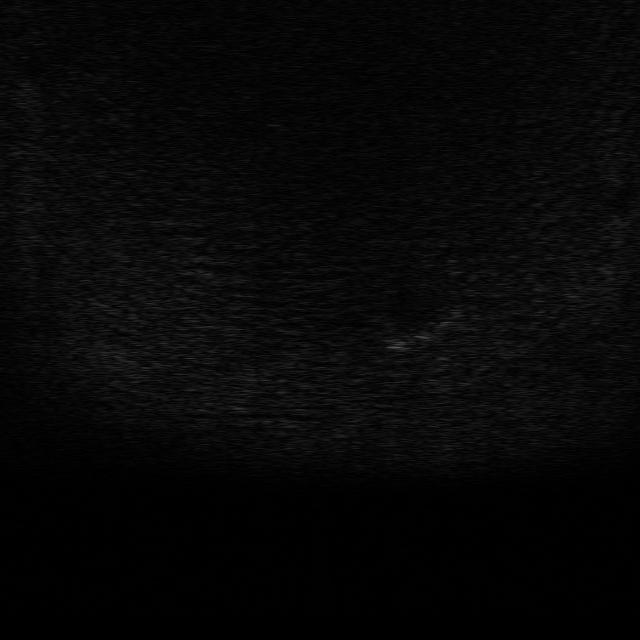plane: (380, 310, 469, 352)
